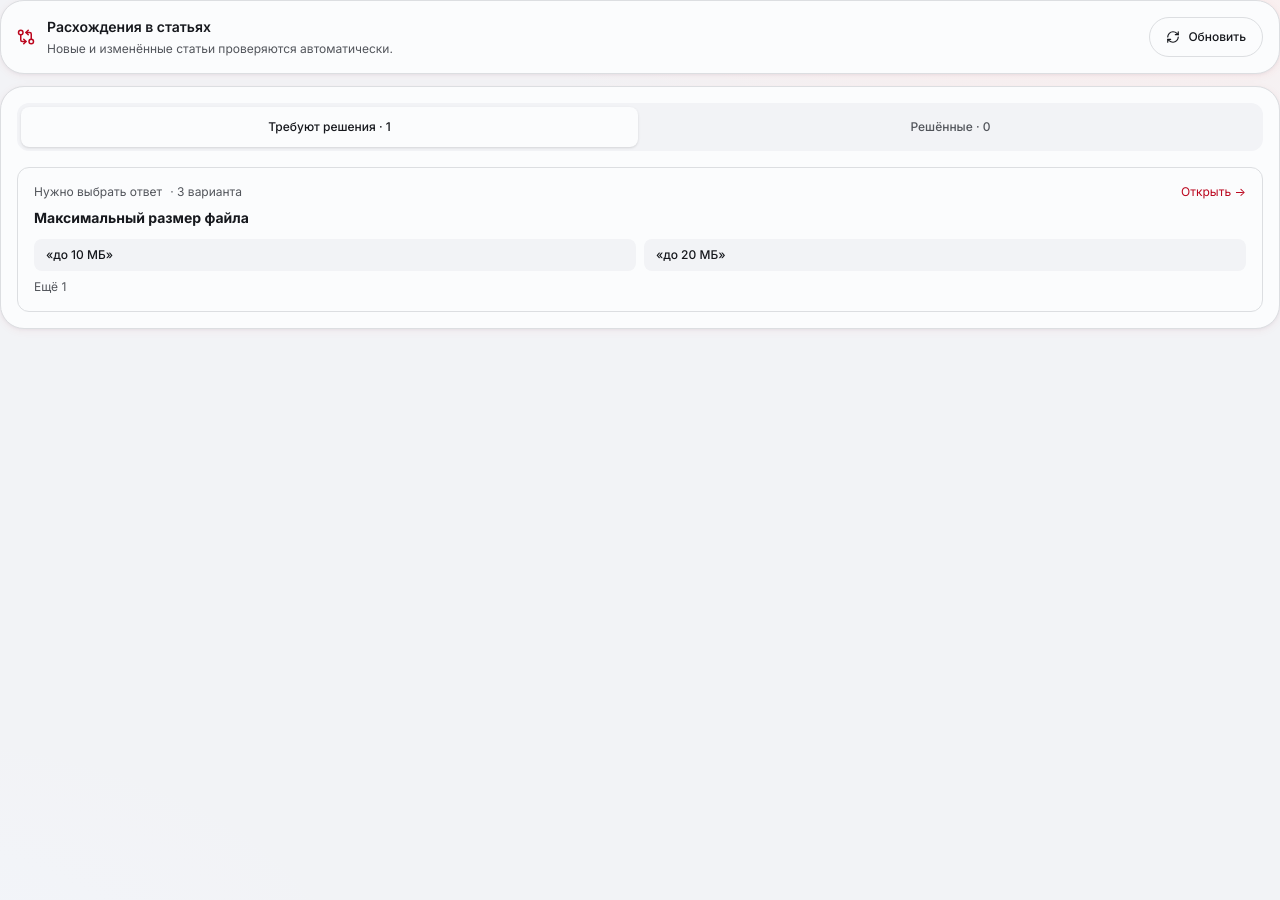
Test: Расхождения в статьях › сотруднику оставляет просмотр всех вариантов без кнопок решения
Click the button "Максимальный размер файла" at (640, 240), box [17,167,1263,312]
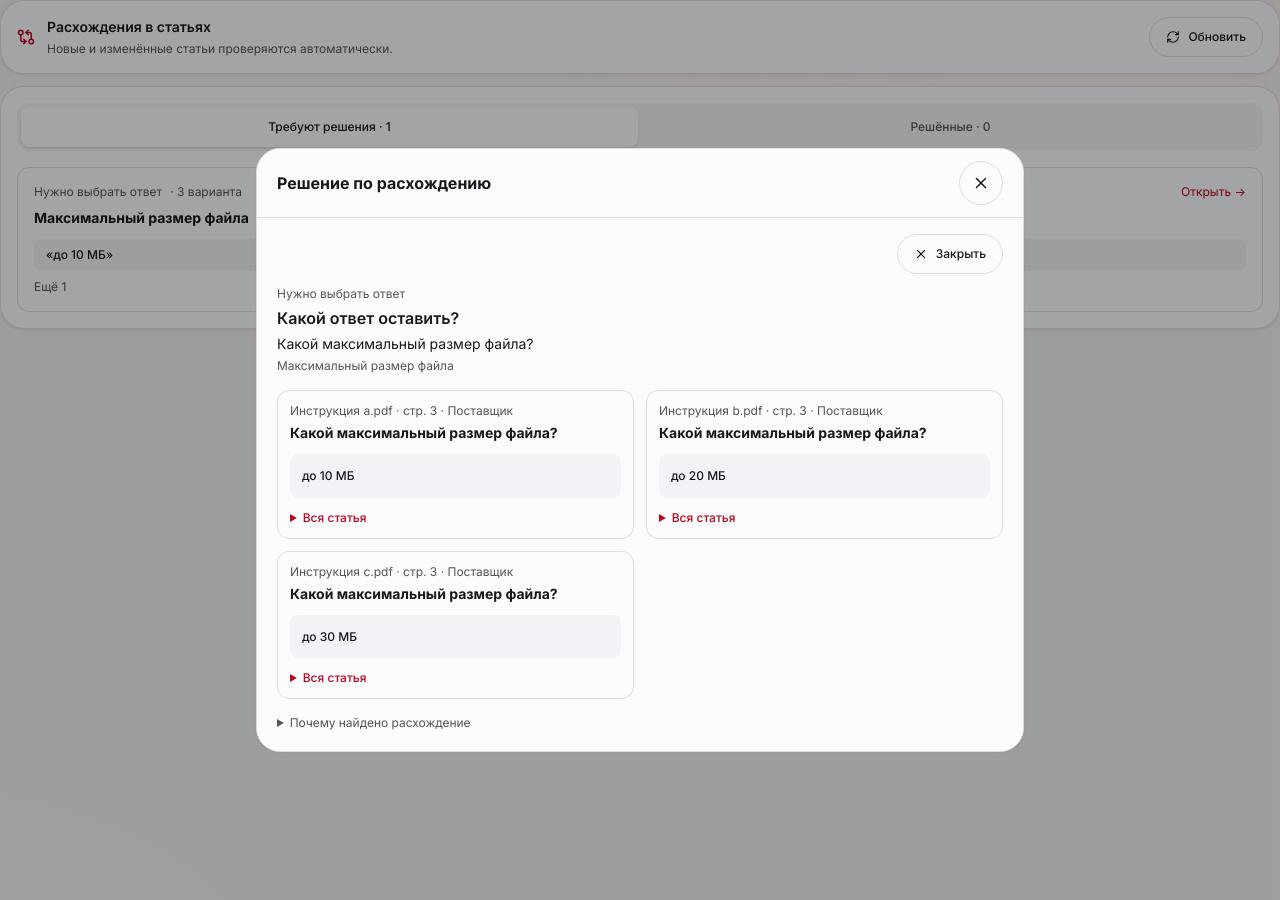
Now the heading "Какой ответ оставить?" is shown, box [277,308,459,328]
